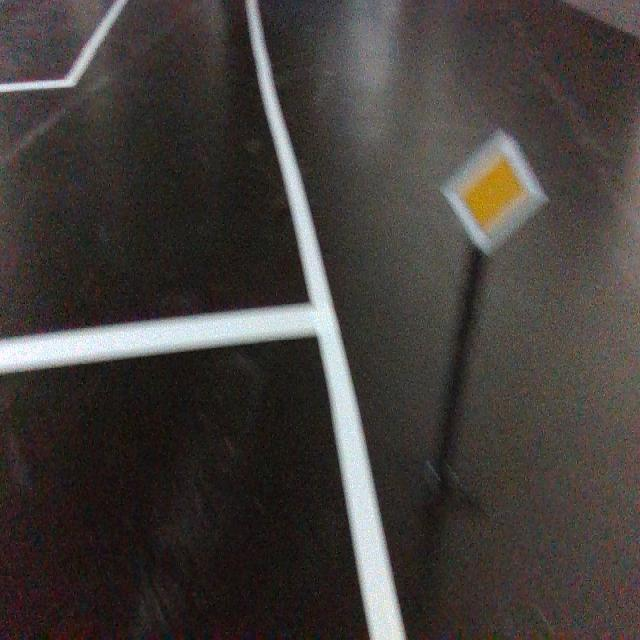priority-sign: (439, 126, 549, 256)
